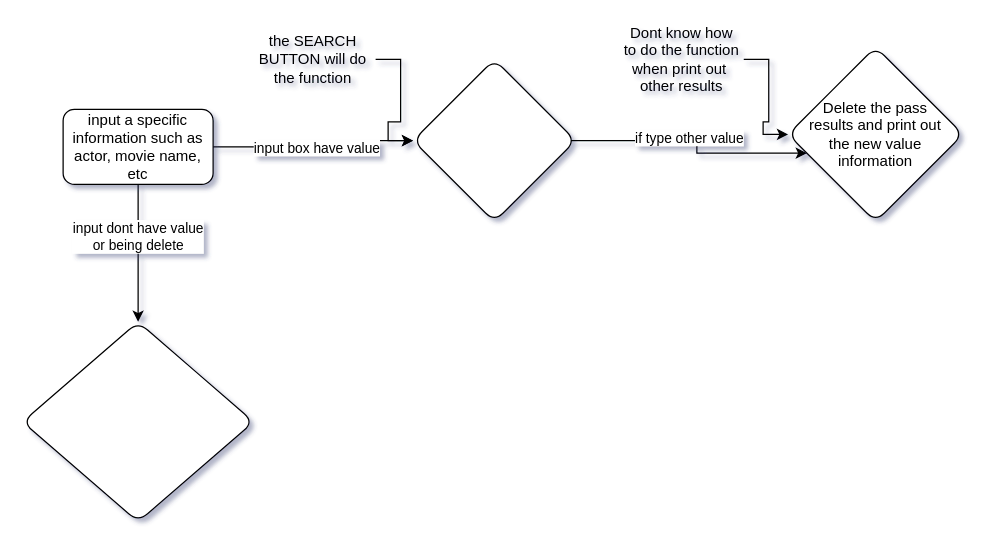
Some shapes in this 993 by 551 pixel diagram are drawn without their labels. Here are the shapes that lost their labels. From the top down, the box of each, then its label:
(412, 58, 576, 222): Print out result a different DIV that have absolute positon
(21, 321, 254, 522): That return to the main page while being deleted, not waitng to refresh
